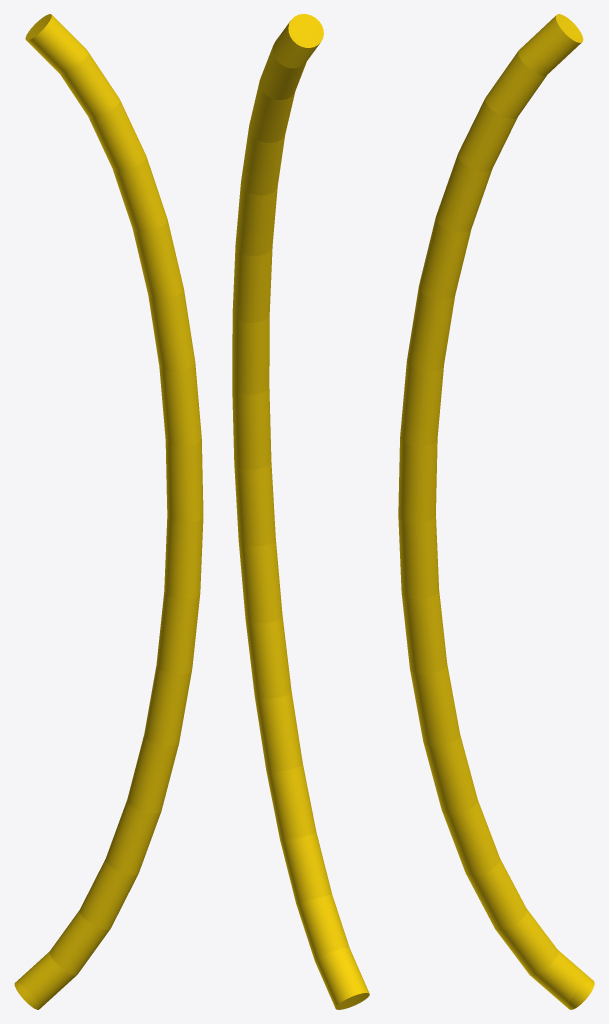
The model's file is Event_421556567_track_25.fbx.
3 renders of one model, left to right at view 1: azimuth 90°, elevation 25°; view 2: azimuth 210°, elevation 25°; view 3: azimuth 270°, elevation 25°, orthographic. The views are drawn at different scales.
Parts seen in each view (by area): view 1: Model; view 2: Model; view 3: Model.
Boxes of the visible parts, <box> form: Model: <box>14,14,203,1009</box>; Model: <box>232,14,369,1009</box>; Model: <box>398,14,594,1009</box>.
Bounding box in the file's own units: 0.0902 × 1.18 × 0.2085.
